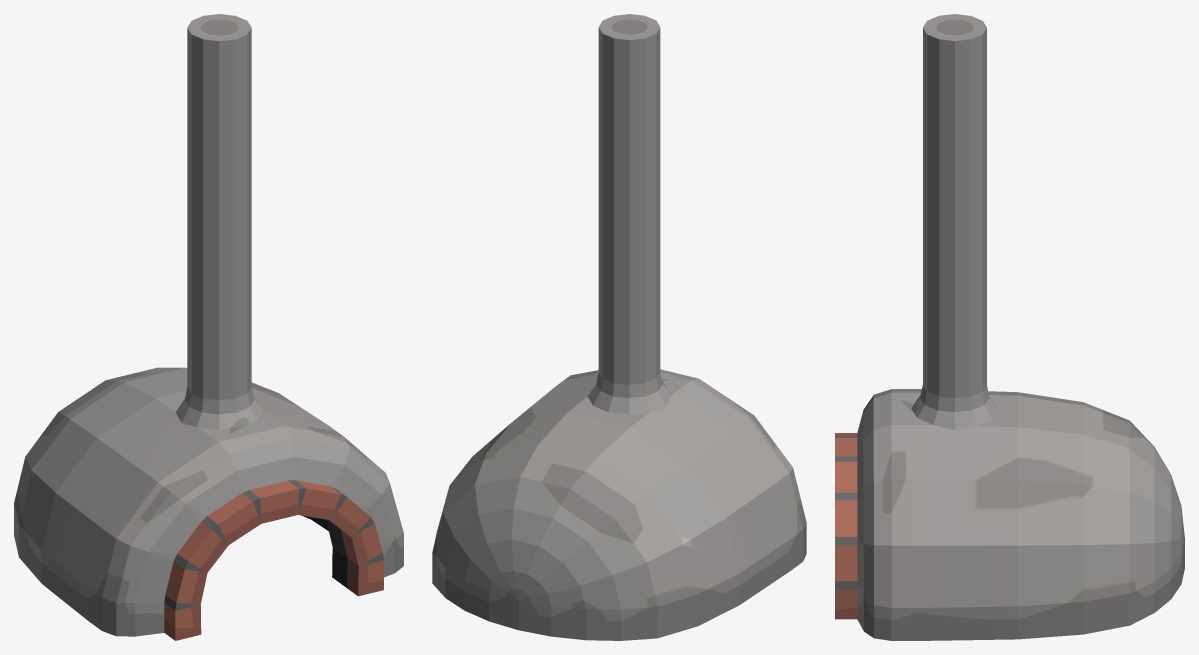
Rendered from SM_Prop_Kitchen_Pizza_Oven_01.006.obj.
3 views of the same model, side by side, from view 1: azimuth 30°, elevation 25°; view 2: azimuth 150°, elevation 25°; view 3: azimuth 270°, elevation 25° (orthographic). The views are drawn at different scales.
Parts seen in each view (by area): view 1: SM_Prop_Kitchen_Pizza_Oven_01.006_0; view 2: SM_Prop_Kitchen_Pizza_Oven_01.006_0; view 3: SM_Prop_Kitchen_Pizza_Oven_01.006_0.
Part boxes in pixels (x1=…): SM_Prop_Kitchen_Pizza_Oven_01.006_0: x1=14, y1=14, x2=403, y2=640; SM_Prop_Kitchen_Pizza_Oven_01.006_0: x1=432, y1=14, x2=806, y2=640; SM_Prop_Kitchen_Pizza_Oven_01.006_0: x1=835, y1=14, x2=1184, y2=640.
Size of the model in its own units: 1.84 by 3.2 by 1.88.
Materials: 1 (1 with a texture image).
